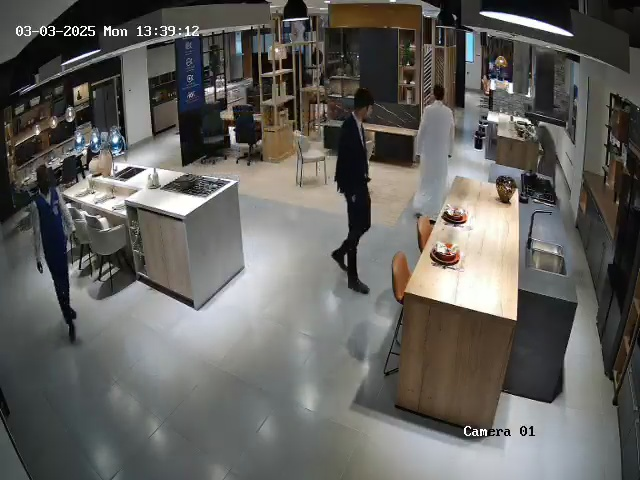employee: (330, 87, 375, 295), (33, 165, 78, 343)
male: (411, 84, 455, 220)
